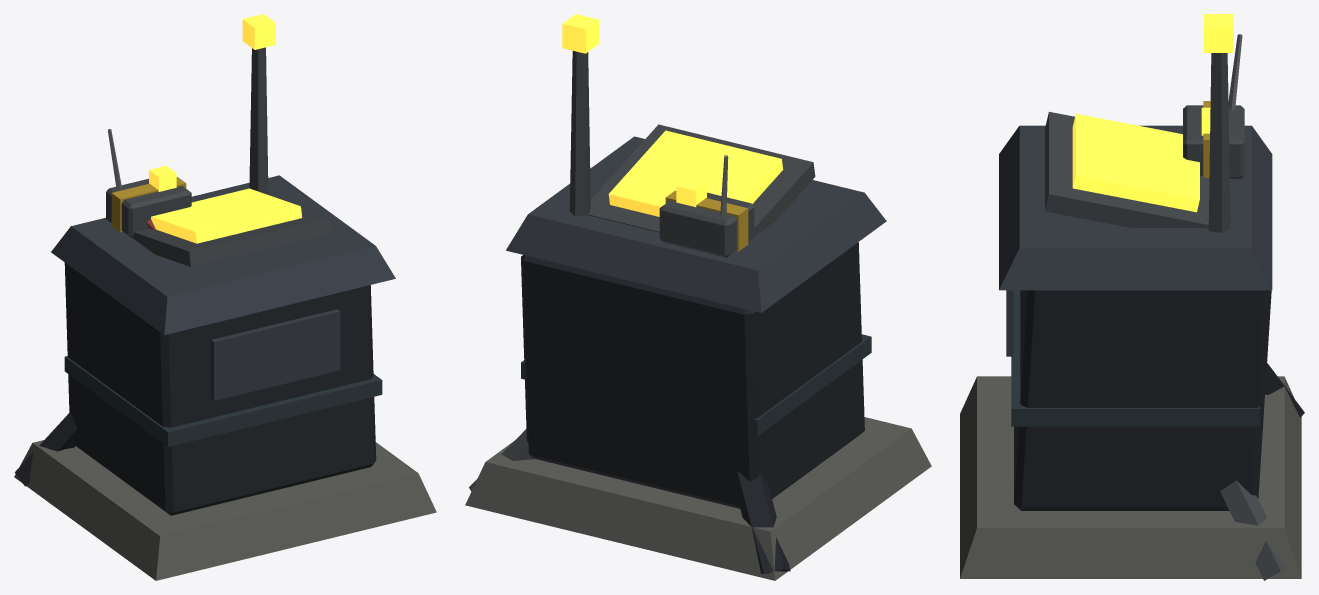
Rendered from device_relay_node_hacked.glb.
3 views of the same model, side by side, from view 1: azimuth 30°, elevation 25°; view 2: azimuth 150°, elevation 25°; view 3: azimuth 270°, elevation 25° (orthographic). The views are drawn at different scales.
Visible parts, largest first — view 1: device_relay_node_mesh; view 2: device_relay_node_mesh; view 3: device_relay_node_mesh.
Boxes of the visible parts, box(x1,y1,x2,y2) form: device_relay_node_mesh: box(14, 14, 436, 580); device_relay_node_mesh: box(465, 14, 931, 580); device_relay_node_mesh: box(960, 14, 1304, 580).
Size of the model in its own units: 0.8257 by 1.17 by 0.707.
